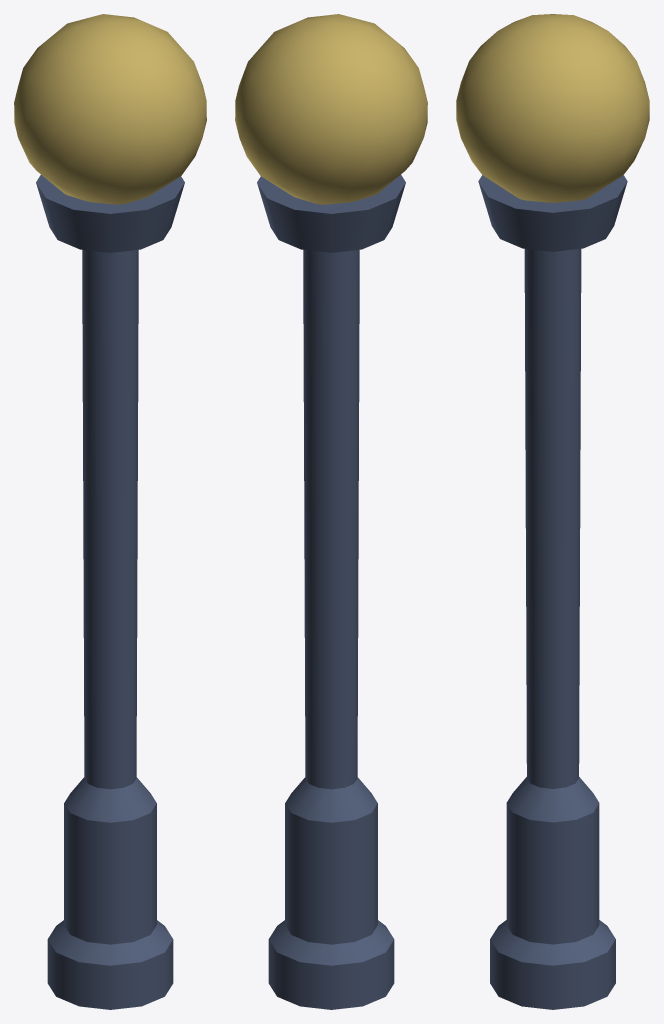
Rendered from lamp_v1.fbx.
The picture shows the model from 3 angles, left to right: view 1: azimuth 30°, elevation 25°; view 2: azimuth 150°, elevation 25°; view 3: azimuth 270°, elevation 25°; orthographic projection.
Parts seen in each view (by area): view 1: lamp_v1; view 2: lamp_v1; view 3: lamp_v1.
Part boxes in pixels (box(x1,y1,x2,y2)): lamp_v1: box(14, 14, 206, 1009); lamp_v1: box(235, 14, 427, 1009); lamp_v1: box(456, 14, 649, 1009).
Size of the model in its own units: 61.73 by 338 by 61.58.
